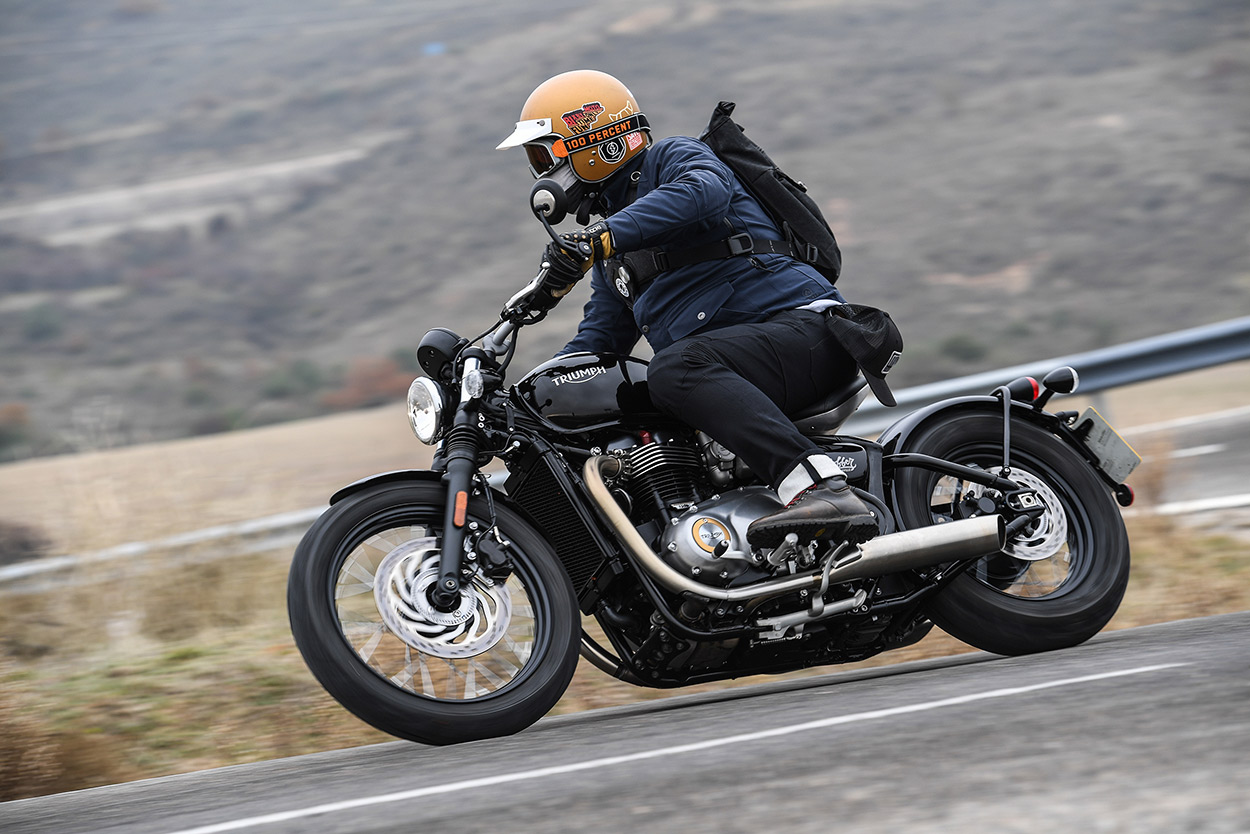helmet: (439, 62, 993, 469)
